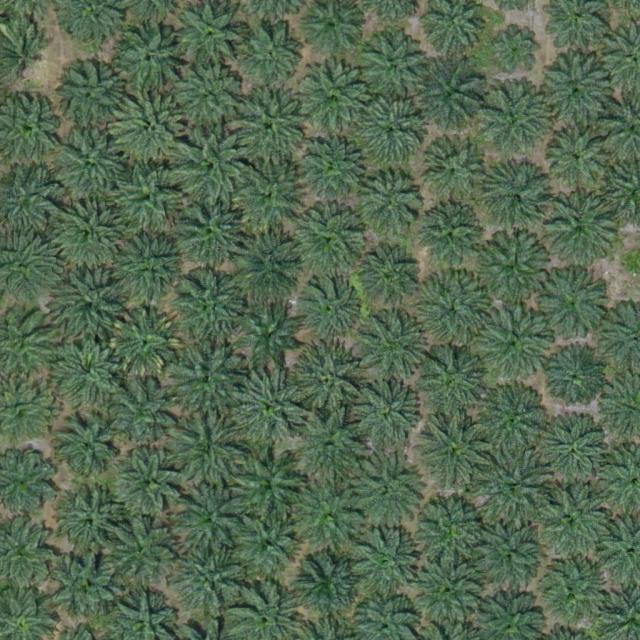Healthy: (53, 59, 131, 138), (121, 94, 199, 173), (111, 17, 189, 96), (298, 61, 376, 140), (476, 81, 554, 160), (539, 54, 617, 133), (474, 383, 552, 462), (416, 270, 494, 349), (416, 346, 494, 425), (416, 416, 494, 495), (295, 130, 373, 209), (288, 341, 366, 420), (293, 410, 371, 489), (228, 369, 306, 448), (230, 226, 308, 305), (228, 159, 306, 238), (232, 91, 310, 170), (173, 127, 251, 206), (170, 192, 248, 271), (170, 266, 248, 345), (169, 341, 247, 420), (163, 413, 241, 492), (173, 481, 251, 560), (171, 539, 249, 618), (229, 442, 307, 521), (231, 504, 309, 583), (286, 477, 364, 556), (345, 528, 423, 607), (347, 451, 425, 530), (414, 553, 492, 632), (527, 484, 605, 563), (409, 60, 487, 138), (473, 303, 551, 381), (474, 230, 552, 308), (354, 93, 432, 171), (414, 494, 492, 572), (530, 554, 608, 632), (354, 172, 425, 243), (47, 549, 118, 620), (177, 62, 248, 132), (481, 164, 551, 235), (419, 136, 489, 207), (359, 312, 429, 383), (295, 209, 365, 280), (115, 164, 185, 235), (115, 231, 185, 302), (52, 335, 122, 406), (54, 201, 124, 272), (57, 132, 127, 203), (57, 489, 127, 560), (106, 519, 176, 590), (295, 552, 366, 622), (539, 265, 609, 335), (546, 419, 616, 489), (349, 379, 419, 449), (111, 380, 181, 450), (52, 413, 122, 483), (57, 272, 127, 342), (116, 448, 186, 518), (474, 522, 544, 592), (482, 450, 552, 520), (545, 126, 608, 189), (545, 348, 608, 411), (419, 205, 482, 268), (359, 246, 422, 309), (238, 24, 300, 87), (363, 33, 425, 96), (550, 199, 612, 262), (300, 278, 362, 341), (239, 303, 301, 365)
Small: (494, 25, 541, 72)
Yellow: (111, 307, 181, 378)
